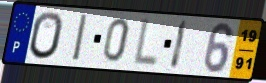0: (102, 16, 132, 65)
6: (202, 21, 235, 75)
I: (168, 18, 190, 71), (71, 12, 90, 63)
L: (130, 17, 160, 70)
O: (28, 10, 65, 61)
